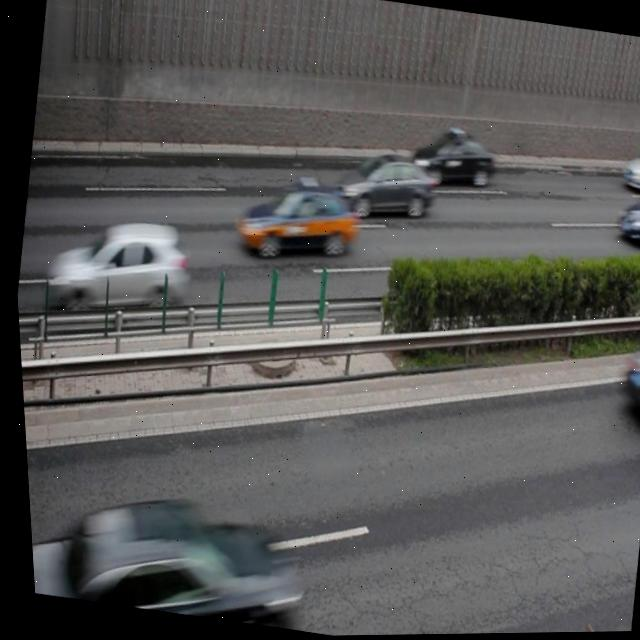car: (26, 477, 304, 634), (35, 204, 194, 329), (227, 173, 361, 272), (325, 145, 439, 230), (404, 122, 496, 195), (607, 323, 640, 434), (607, 183, 640, 253), (615, 140, 640, 198)
